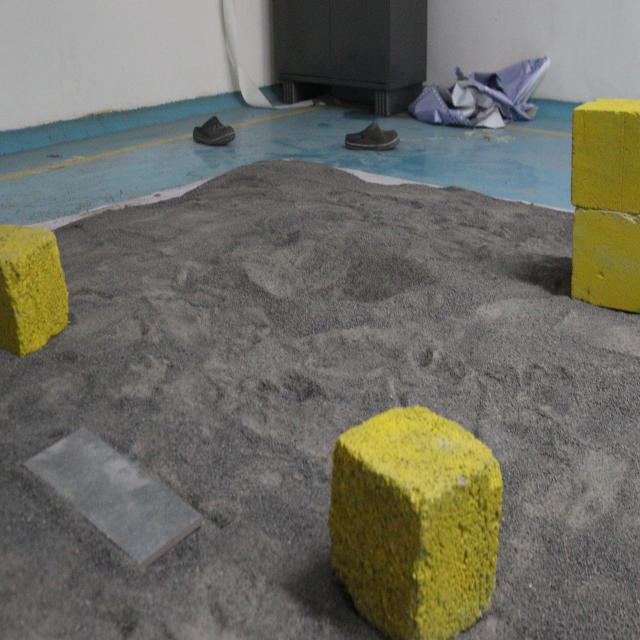box: (327, 403, 505, 640), (560, 90, 640, 321), (0, 226, 70, 358)
crater: (235, 208, 436, 324)
